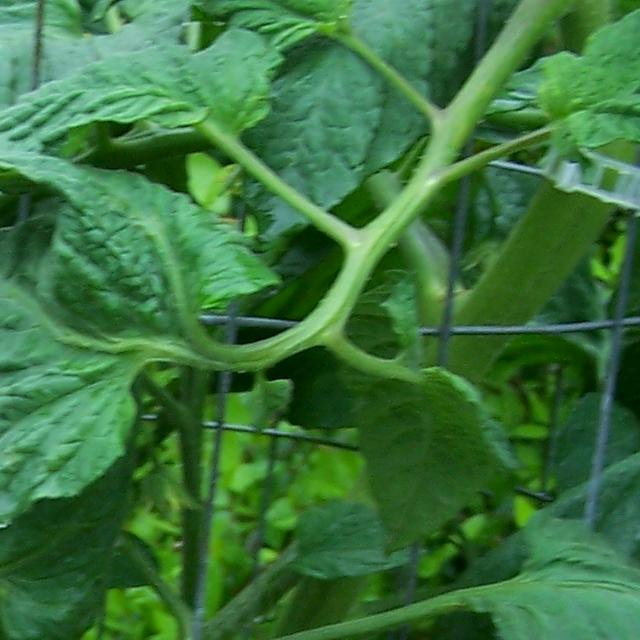Tomato leaf: (0, 254, 161, 493), (530, 0, 640, 173), (511, 554, 640, 640)
